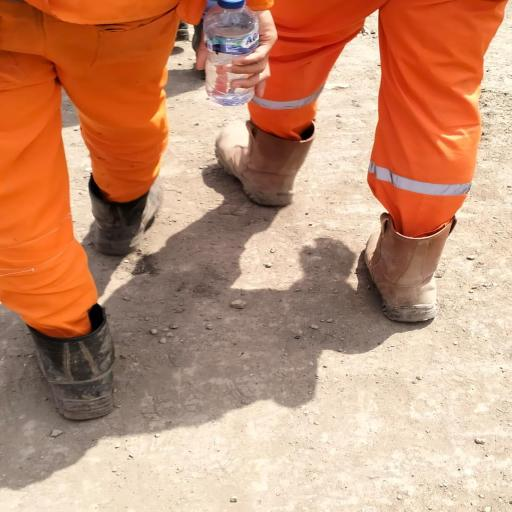safety_shoe: (13, 308, 123, 424), (349, 212, 454, 330), (212, 114, 314, 208), (90, 170, 174, 250)
